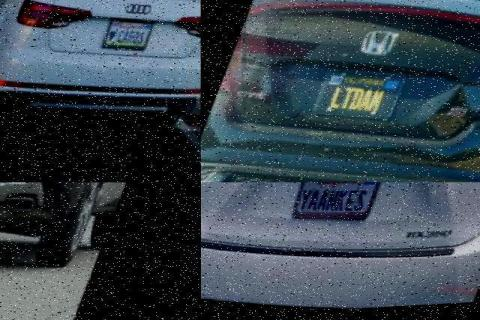LicensePlate: (314, 69, 411, 125), (290, 183, 390, 227), (104, 19, 158, 55), (0, 182, 26, 200)
